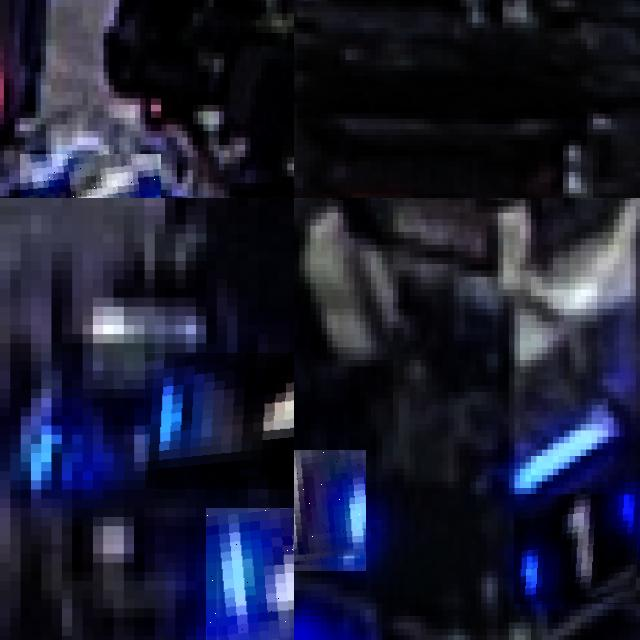B1: (514, 494, 640, 603), (294, 449, 365, 571), (19, 153, 161, 198)
B4: (144, 352, 294, 489), (206, 508, 294, 640)
